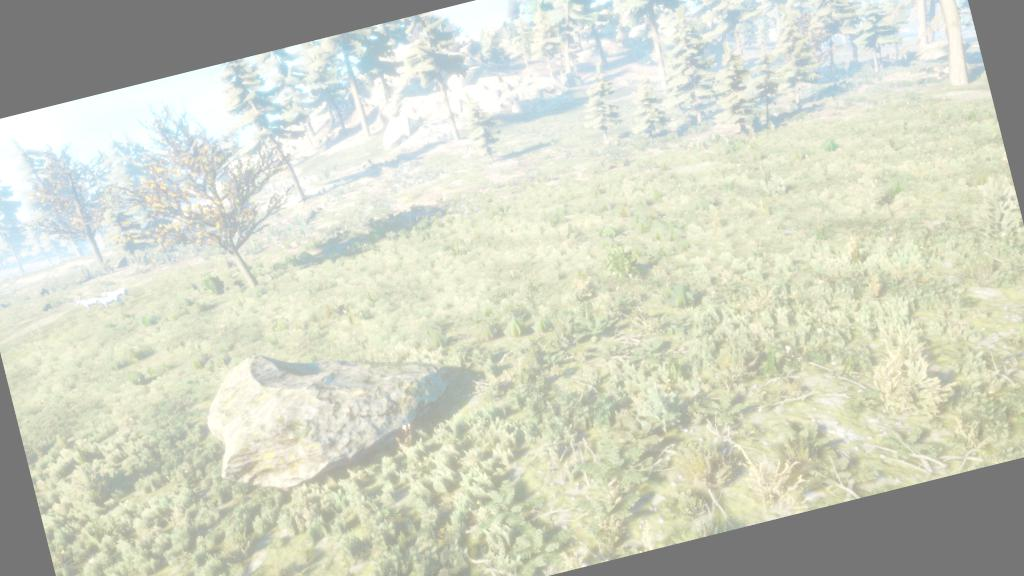zebra: (90, 289, 124, 317), (73, 290, 106, 316), (101, 283, 132, 307)
